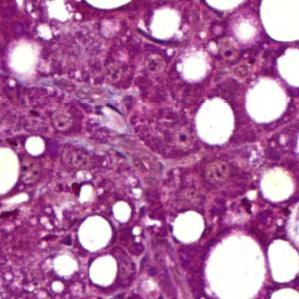steatosis: (207, 235, 265, 299), (197, 96, 236, 146), (244, 79, 289, 122), (268, 236, 298, 284), (258, 164, 294, 202), (148, 6, 182, 40), (171, 209, 206, 242), (80, 217, 111, 253), (86, 254, 118, 285)
